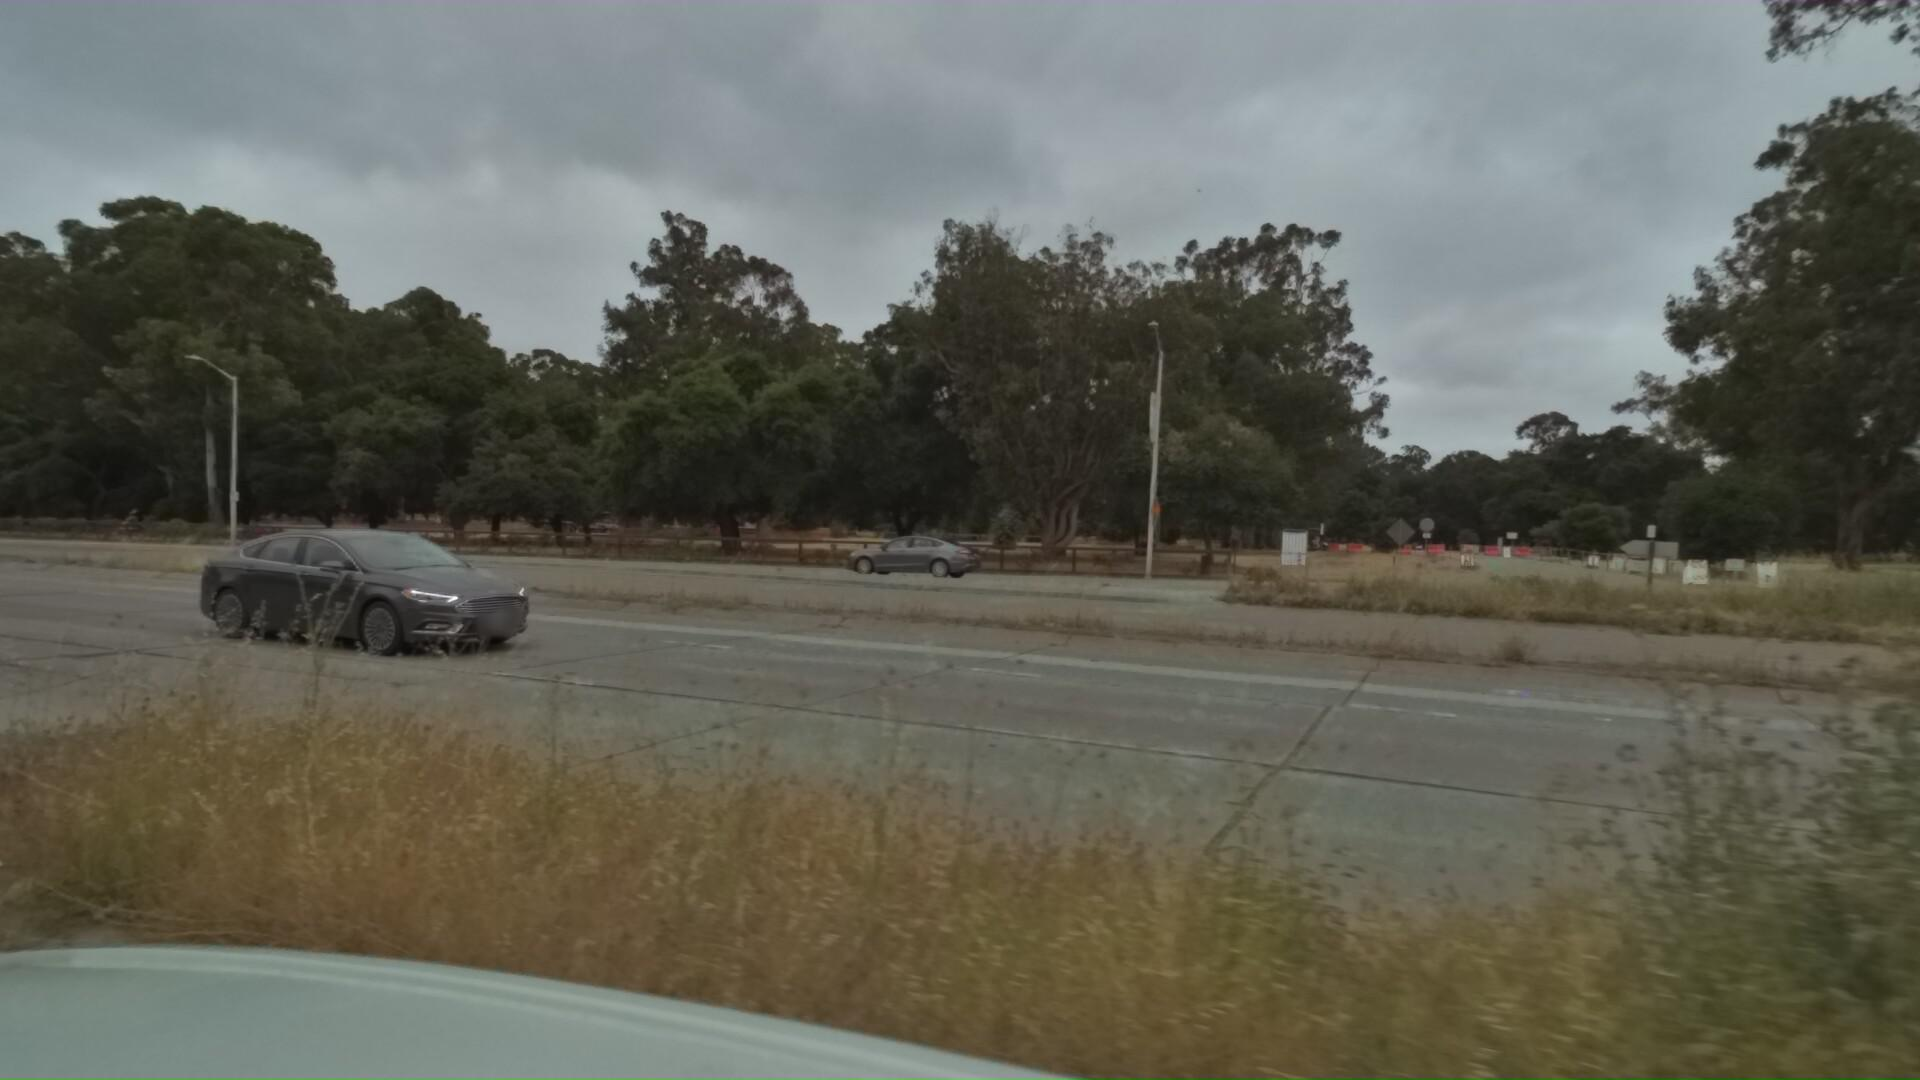car: (187, 516, 575, 667), (812, 533, 959, 583)
